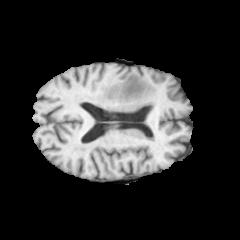glioma: (101, 74, 154, 108)
